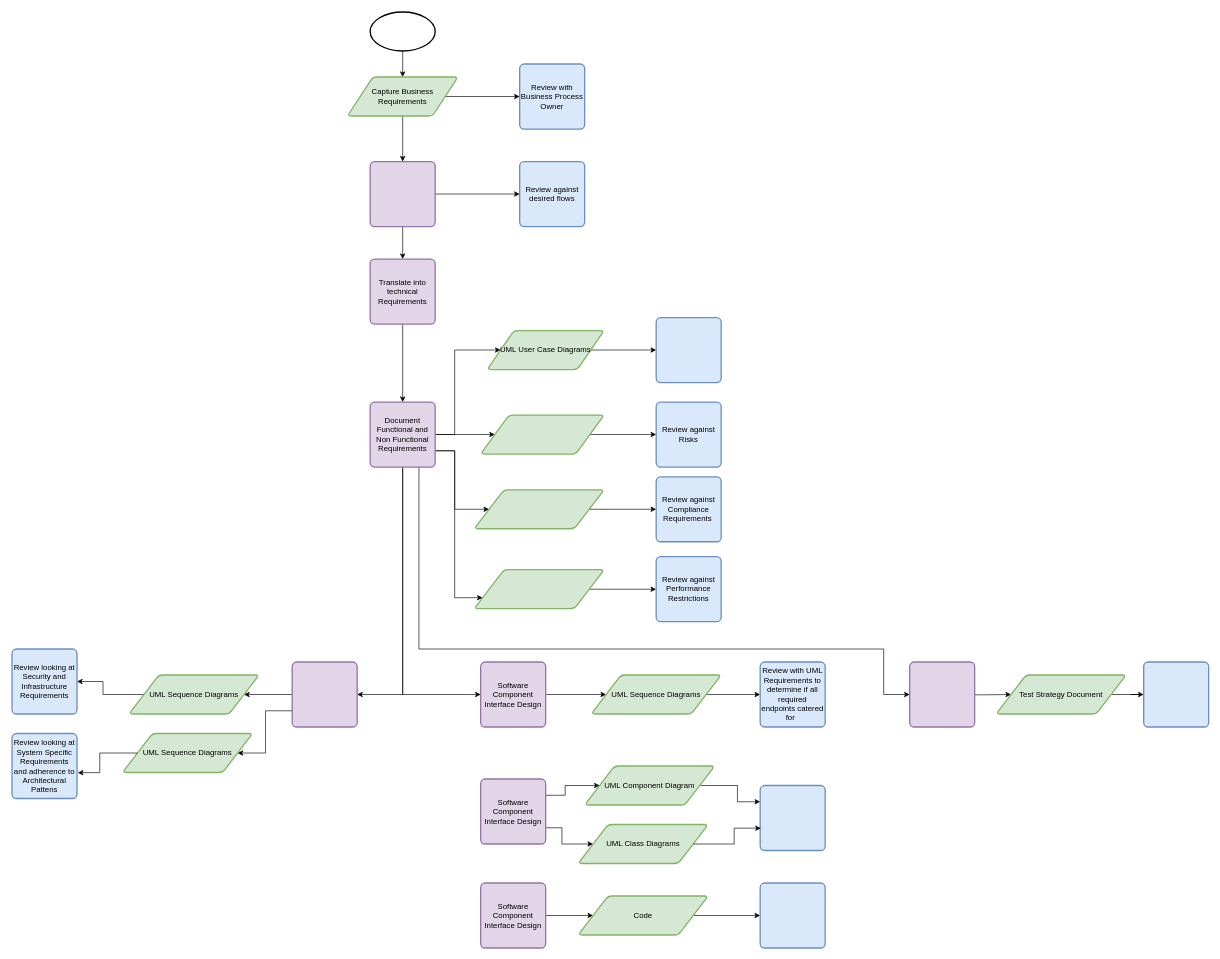
Image size: 1220x959. Some labels were removed from this diagram. Here are the shapes that lost their labels. From the top down, the centre of each, then its label:
At pixel 402 31: "Start".
At pixel 402 194: "Document using appropriate Diagram Standard DFD, User Case".
At pixel 688 350: "Review for accuracy against Business Requirements".
At pixel 542 434: "Security Requirements".
At pixel 538 509: "Compliance Requirements".
At pixel 538 589: "Performance Requirements".
At pixel 324 694: "Architectural Design".
At pixel 942 694: "Test Plan Design".
At pixel 1176 694: "Review test cases make sure critical changes are being covered".
At pixel 792 818: "Review looking at the design patterns and adherence to specific rules and flows".
At pixel 792 915: "Review against coding standards and language specifics".
